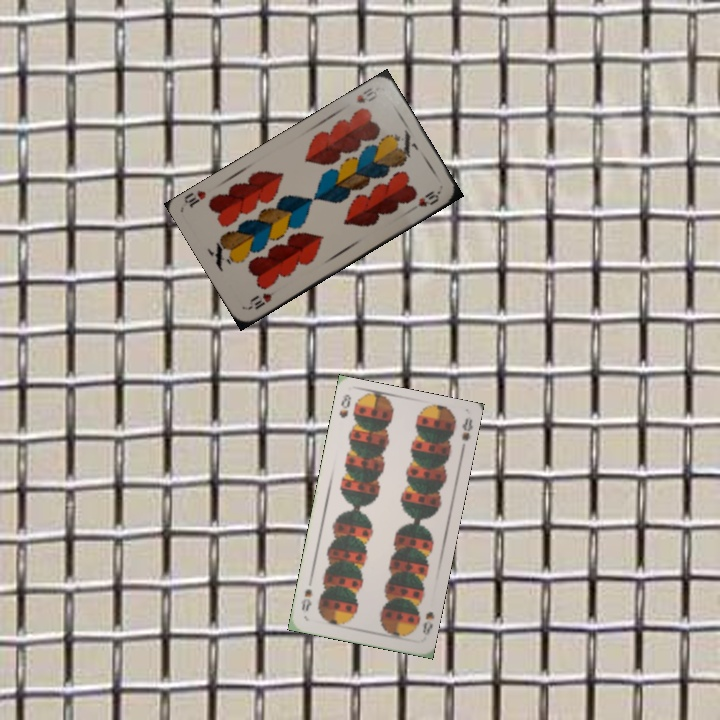H10: (245, 286, 281, 312), (352, 83, 380, 106)
S8: (335, 391, 354, 421), (419, 607, 437, 638)
